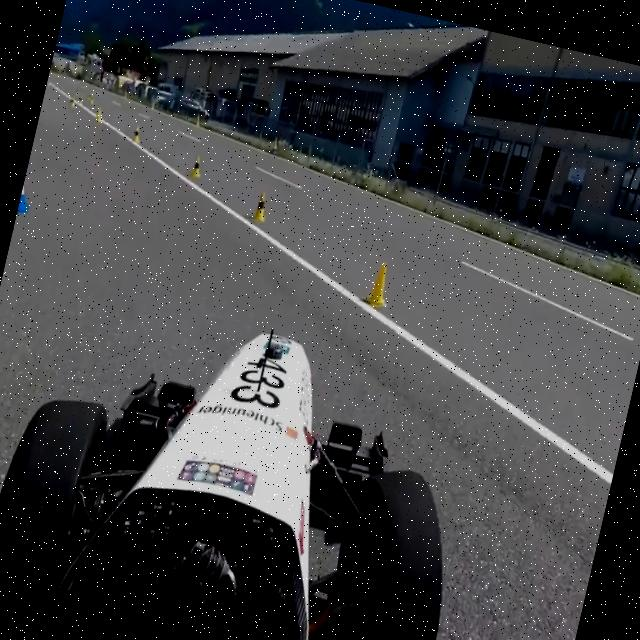blue_cone: (18, 158, 40, 210)
yellow_cone: (360, 245, 398, 318), (250, 183, 276, 218), (187, 148, 210, 184), (132, 116, 152, 154)
